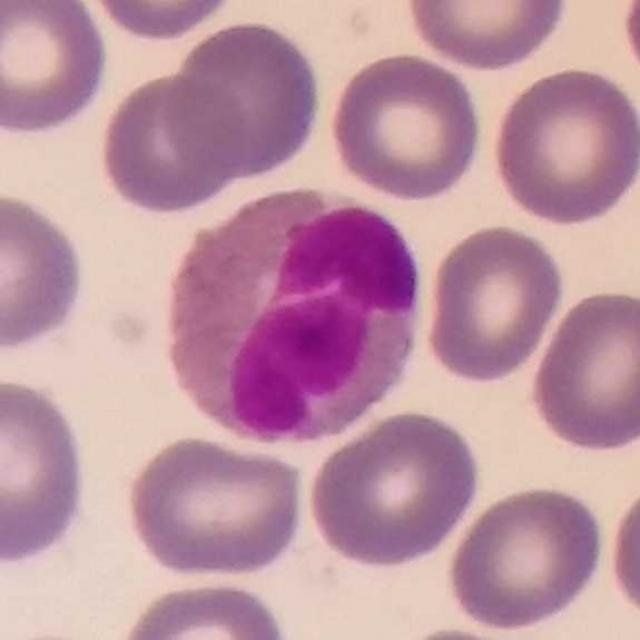eosino: (162, 178, 420, 443)
